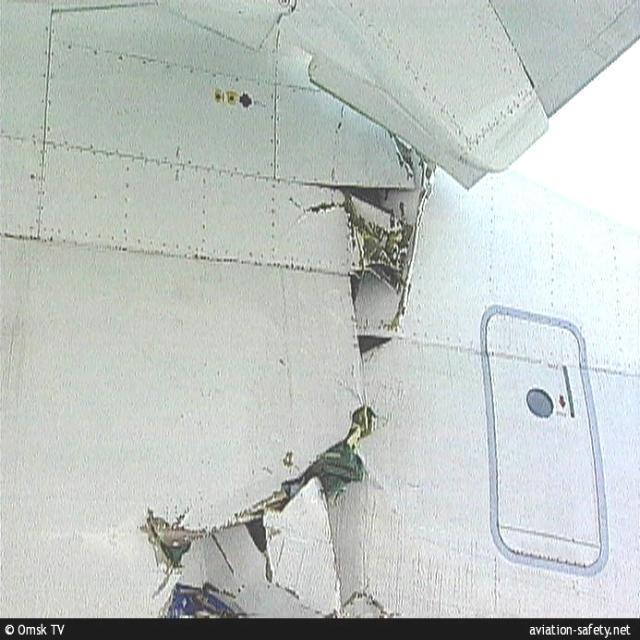crack: (133, 128, 439, 604)
